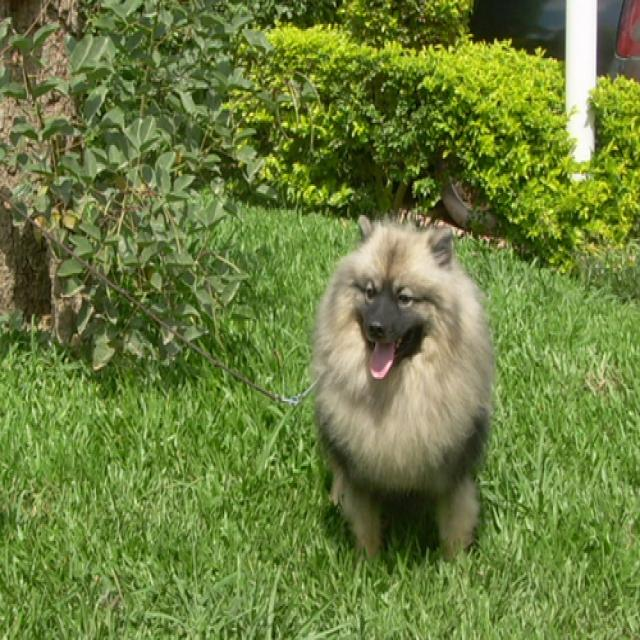dog-keeshond: (303, 208, 498, 563)
